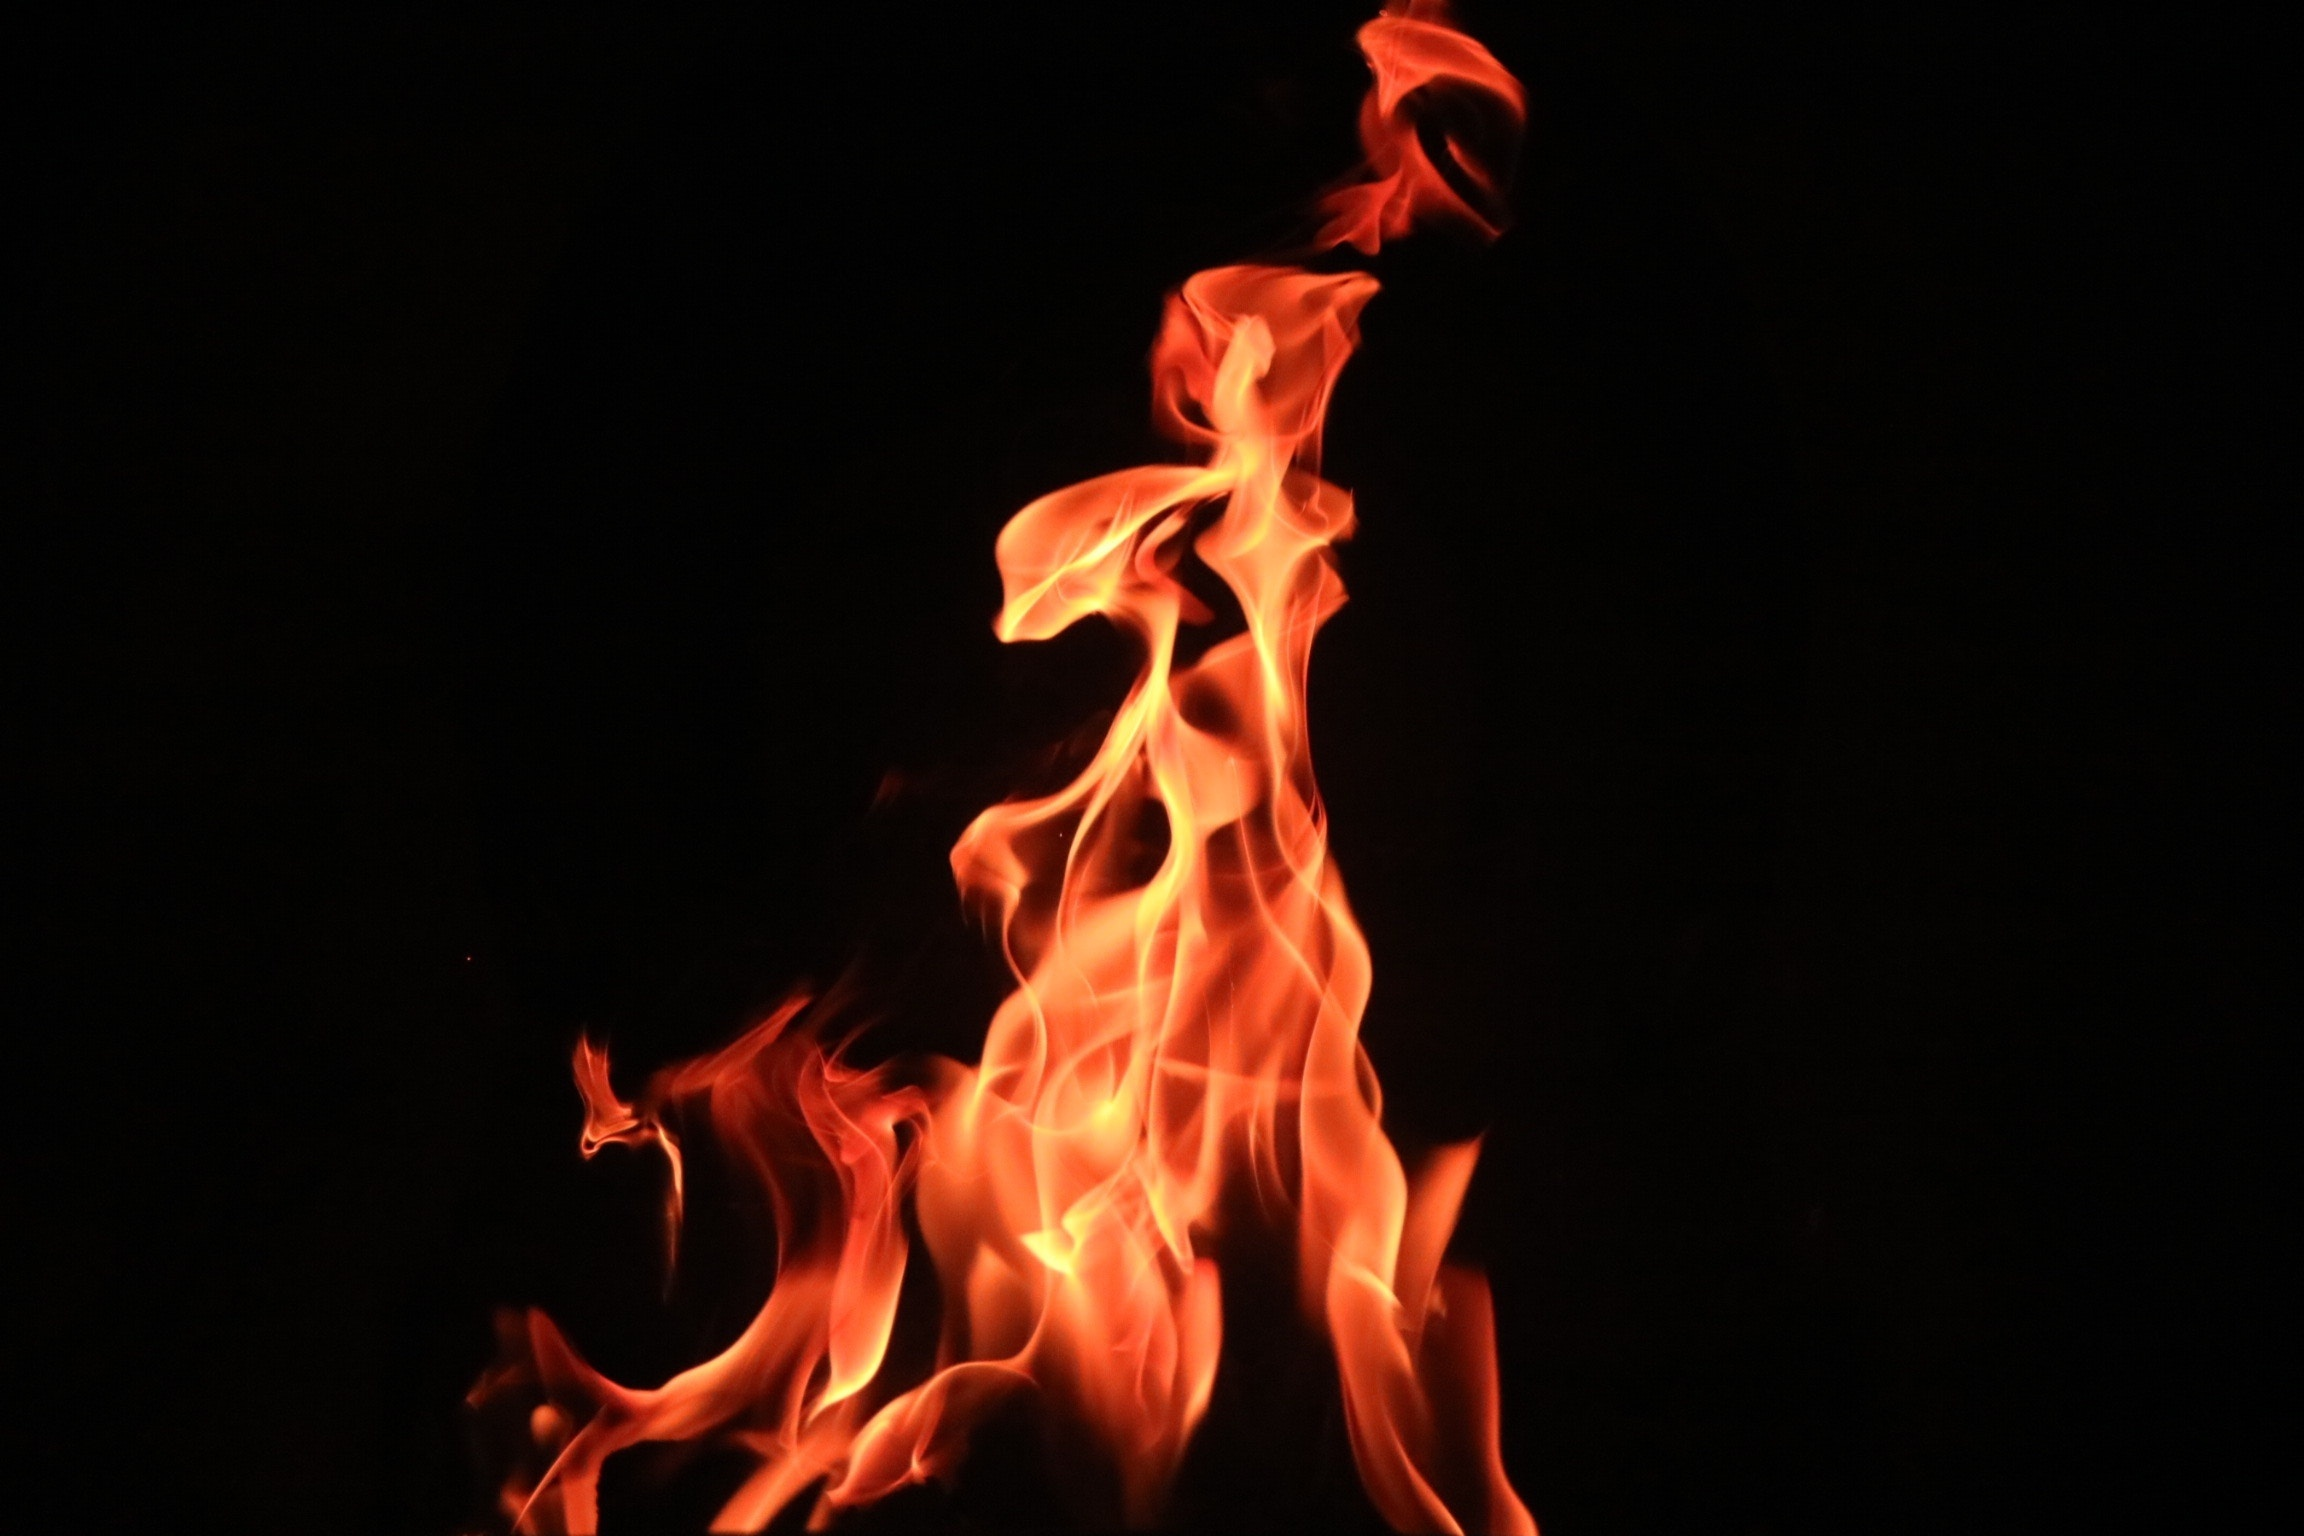fire: (511, 115, 1584, 1515)
